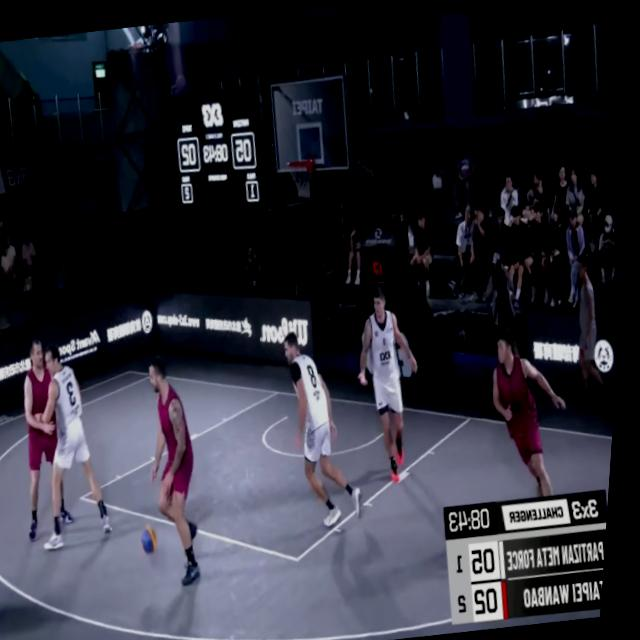ball: (144, 524, 168, 556)
hoop: (287, 154, 322, 200)
player: (137, 352, 232, 592), (28, 339, 131, 552), (284, 316, 385, 532), (350, 277, 446, 486), (6, 324, 92, 547), (484, 316, 585, 499)
